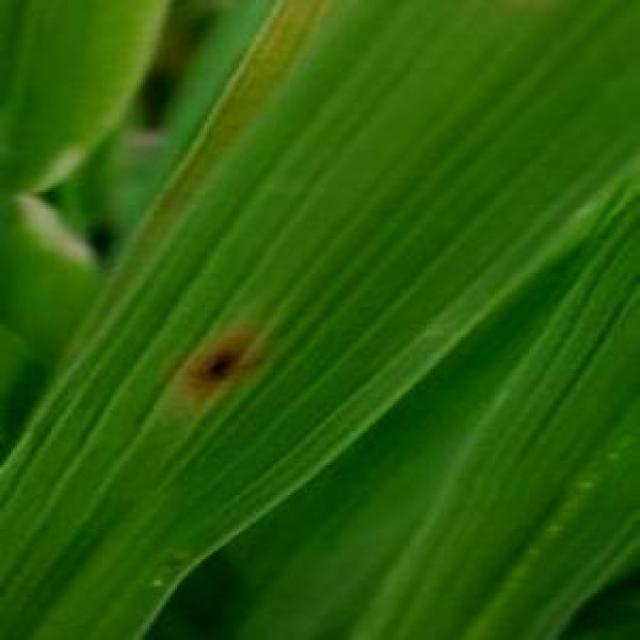Rice_Brownspot: (172, 320, 262, 397)
